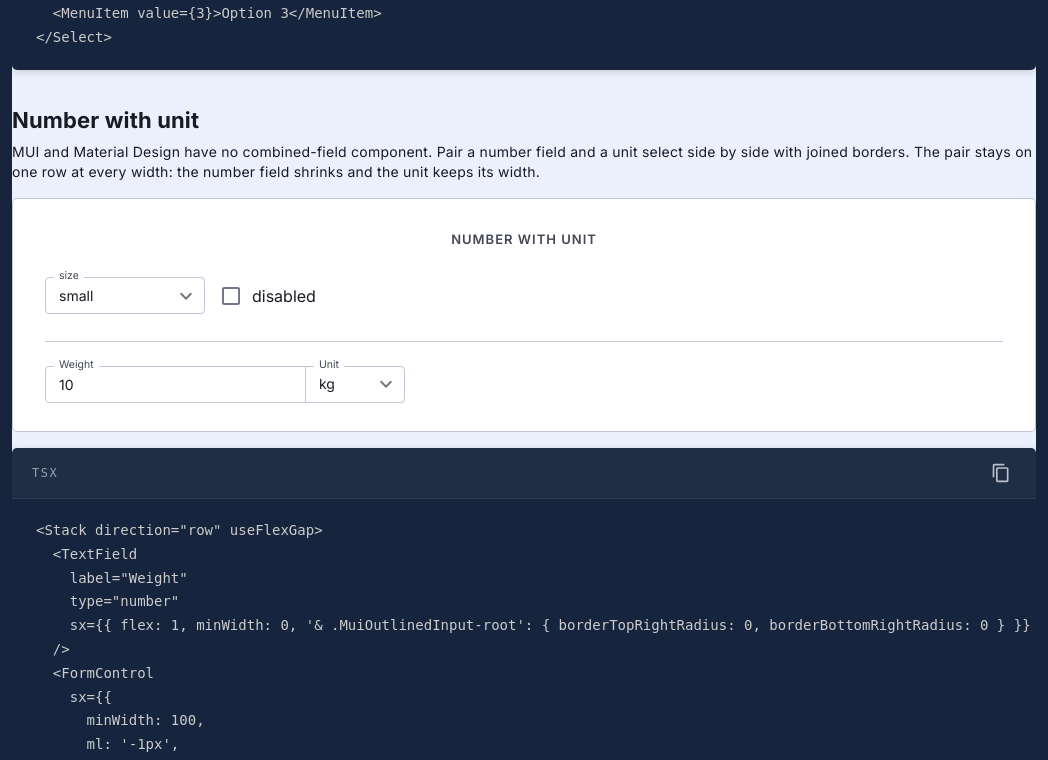
Test: GroupedInputsDemo › shows the number with unit side by side with joined borders
(page scrolled)
Press the mouse on the dropdown named "Unit" at {"x": 327, "y": 384}, box x1=319 y1=375 x2=335 y2=392
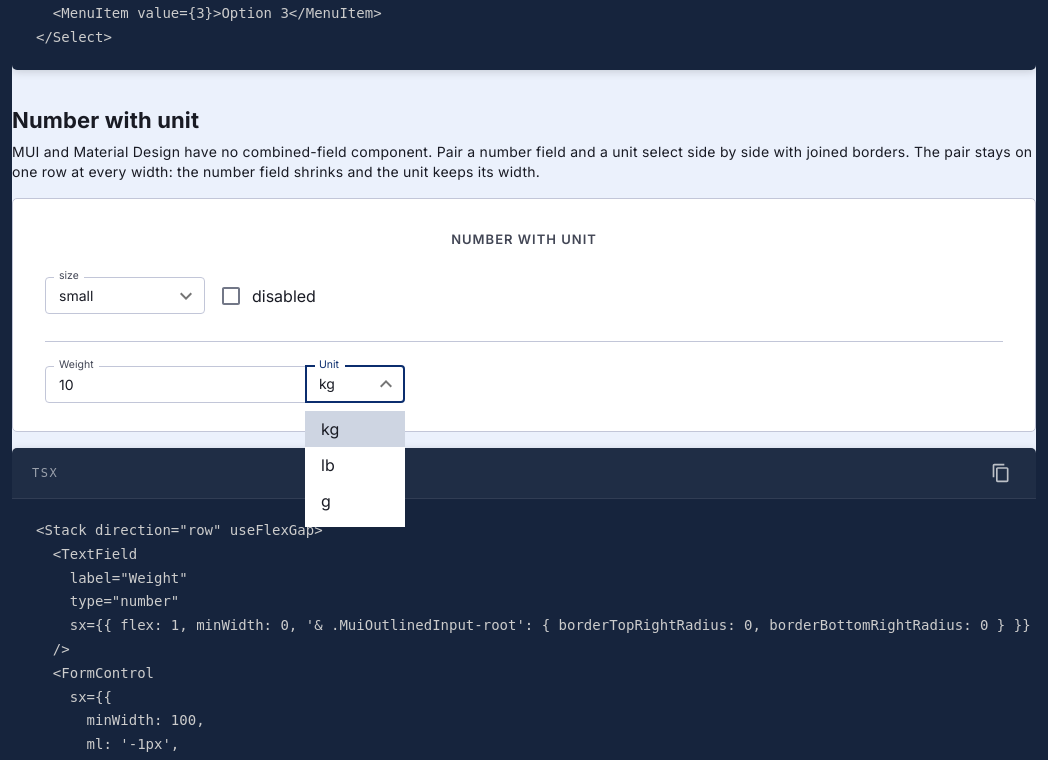
Click the option "lb" at {"x": 328, "y": 465}, box x1=321 y1=455 x2=335 y2=475
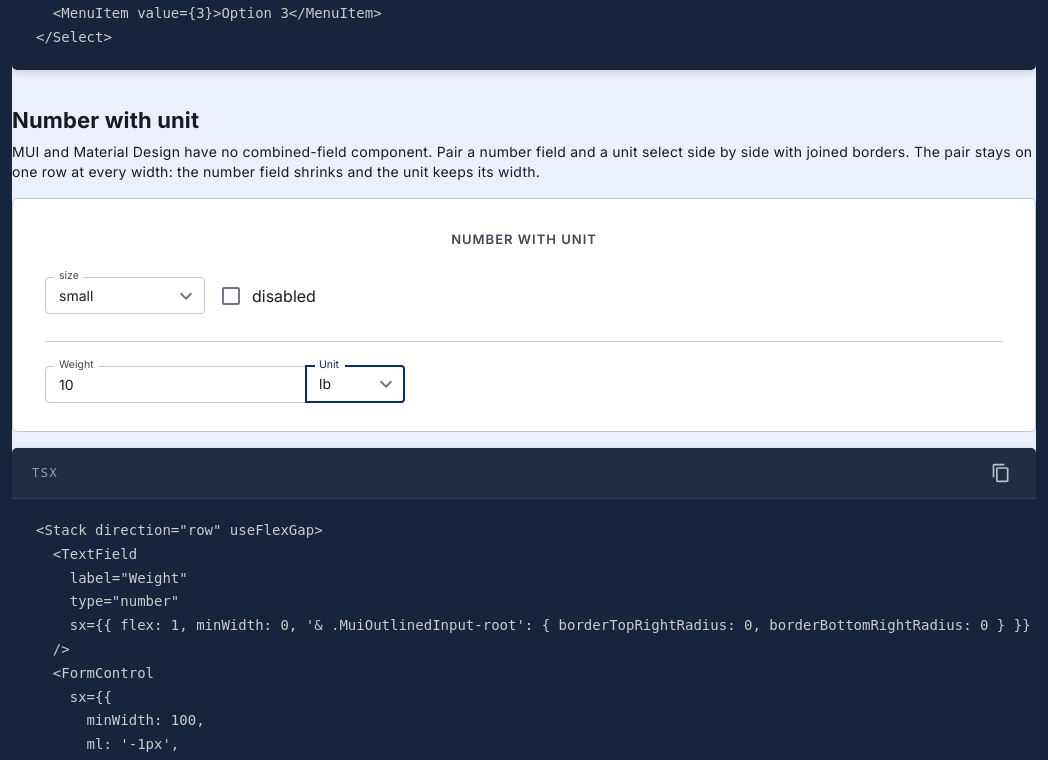
Expected: the dropdown named "Unit" reads "lb", x1=319 y1=375 x2=331 y2=392
